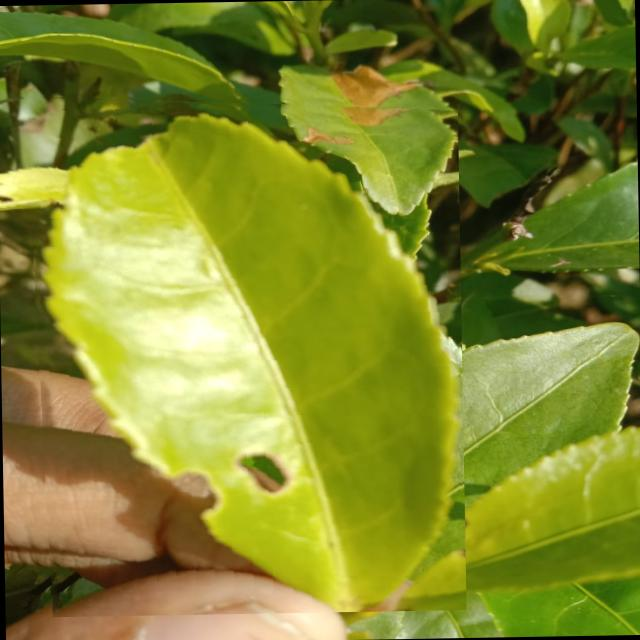Category B(2-4 days): (24, 88, 466, 617)
